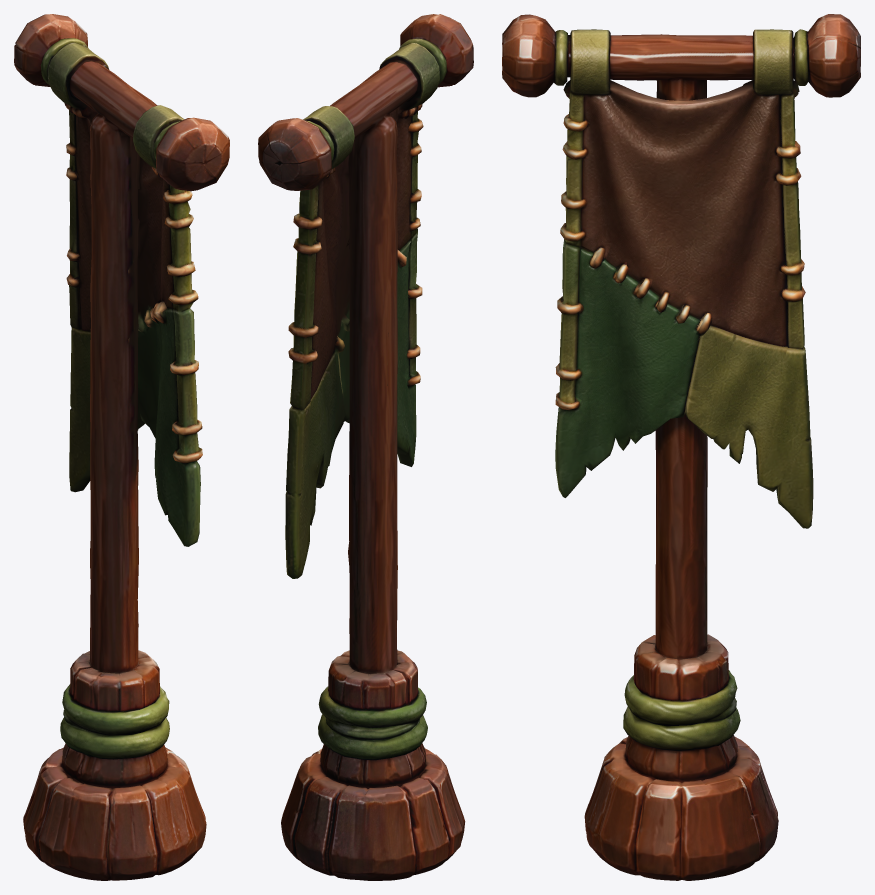
File: Kit_W_Banner_HD_src.glb
3 renders of one model, left to right at view 1: azimuth 30°, elevation 25°; view 2: azimuth 150°, elevation 25°; view 3: azimuth 270°, elevation 25°, orthographic. The views are drawn at different scales.
Parts seen in each view (by area): view 1: tripo_node_8fcd850b-aaab-497f-843b-0edb0c1ff362; view 2: tripo_node_8fcd850b-aaab-497f-843b-0edb0c1ff362; view 3: tripo_node_8fcd850b-aaab-497f-843b-0edb0c1ff362.
Boxes of the visible parts, <box> form: tripo_node_8fcd850b-aaab-497f-843b-0edb0c1ff362: <box>14,14,229,880</box>; tripo_node_8fcd850b-aaab-497f-843b-0edb0c1ff362: <box>258,14,473,880</box>; tripo_node_8fcd850b-aaab-497f-843b-0edb0c1ff362: <box>502,14,860,880</box>.
Bounding box in the file's own units: 0.207 × 0.9791 × 0.3835.
1 material, 1 textured.
